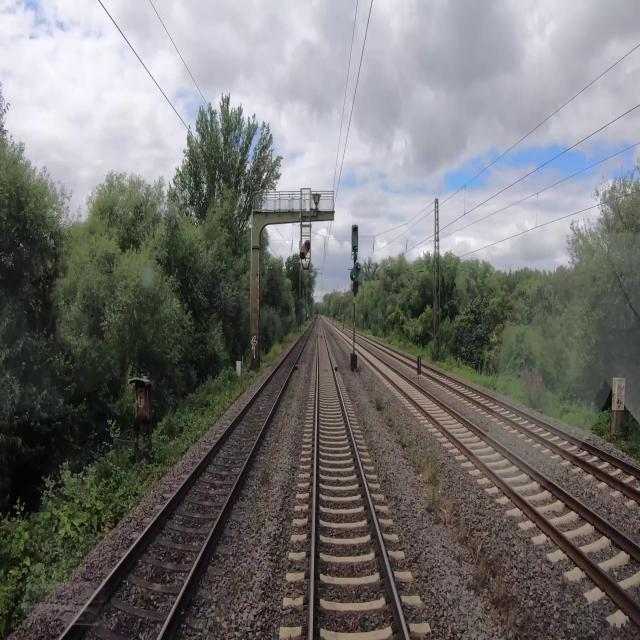Plant: (424, 485, 508, 612), (396, 427, 440, 485)
